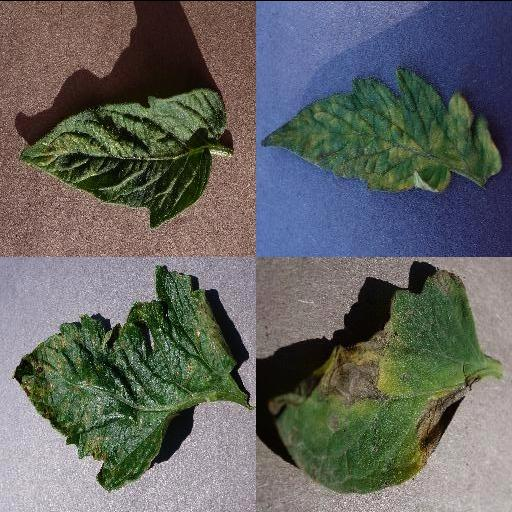Early Blight: (268, 268, 482, 491)
Leaf Mold: (260, 66, 504, 193)
Septoria: (15, 265, 235, 488)
Spider Mites: (18, 87, 228, 229)
